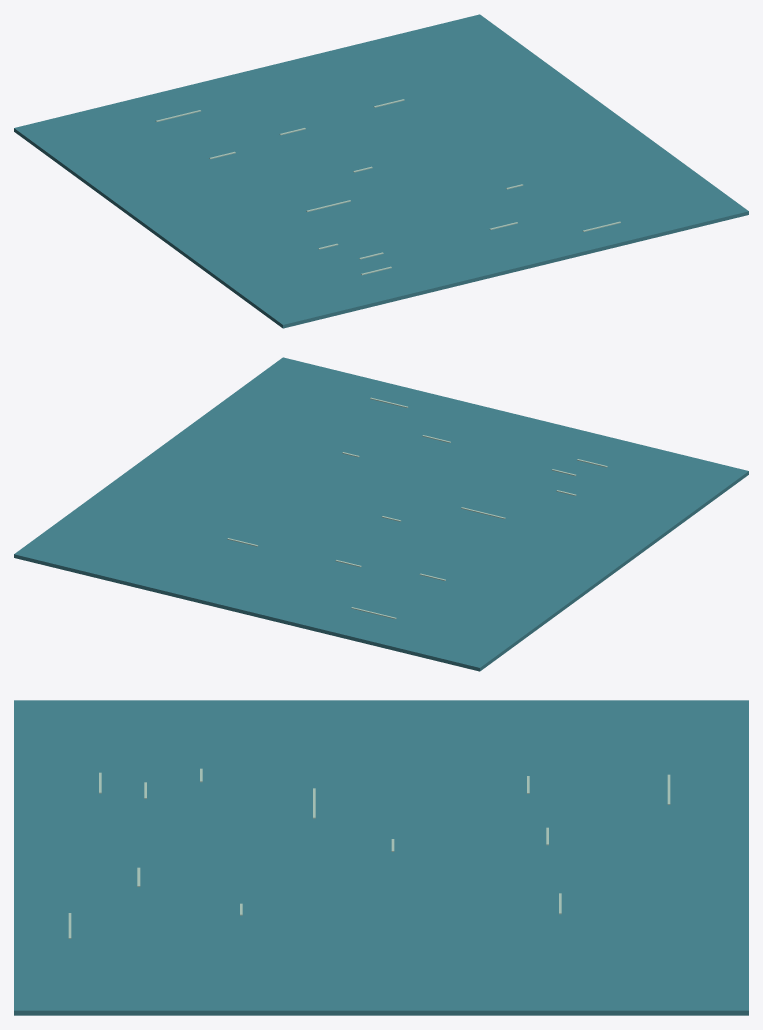
File: water_tile.glb
3 renders of one model, top to bottom at view 1: azimuth 30°, elevation 25°; view 2: azimuth 150°, elevation 25°; view 3: azimuth 270°, elevation 25°, orthographic. The views are drawn at different scales.
Visible parts, largest first — view 1: Keep_Mesh; view 2: Keep_Mesh; view 3: Keep_Mesh.
Boxes of the visible parts, <box> form: Keep_Mesh: <box>14,14,748,328</box>; Keep_Mesh: <box>14,357,748,671</box>; Keep_Mesh: <box>14,700,748,1015</box>.
Size of the model in its own units: 4 by 0.036 by 4.
